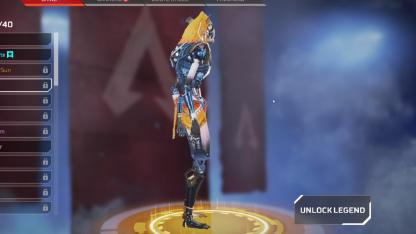Target: (170, 10, 220, 198)
